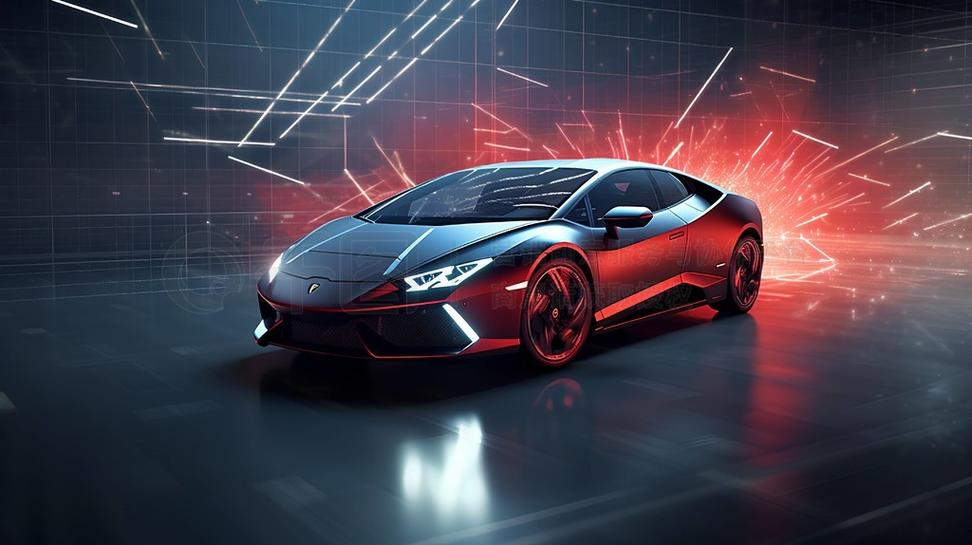汽车: (247, 159, 787, 370)
